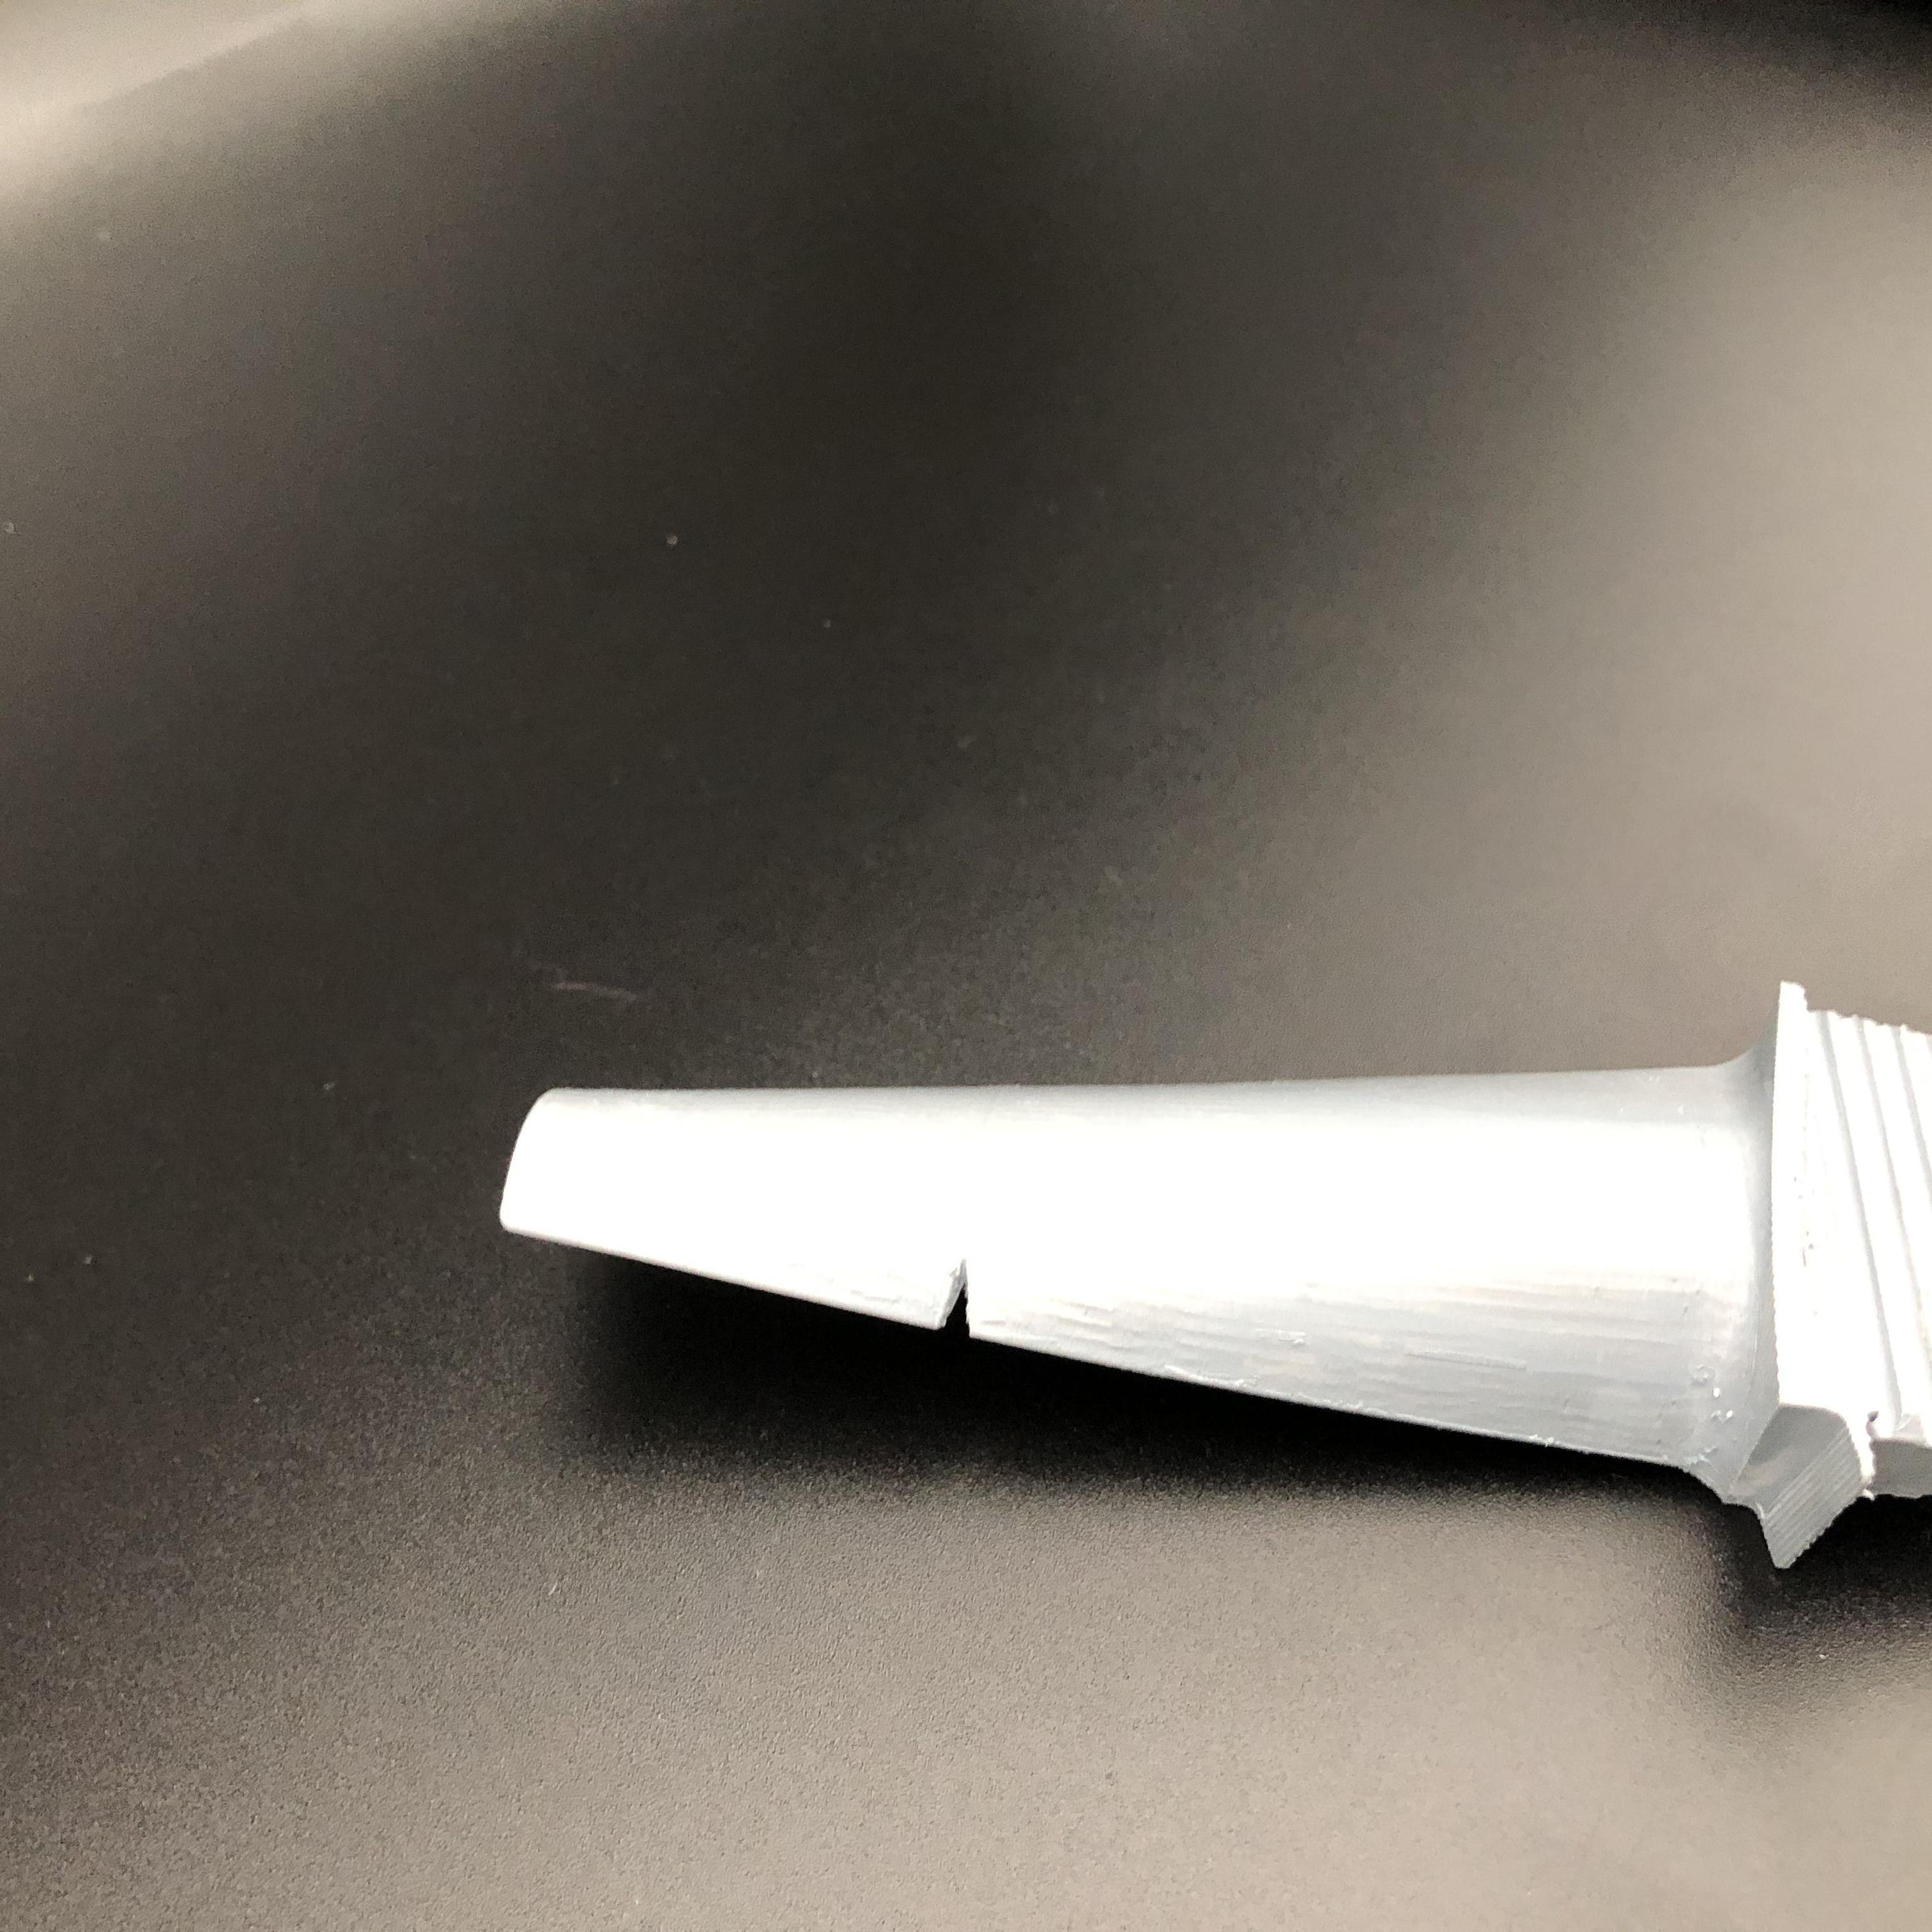groove: (931, 1265, 1003, 1338)
